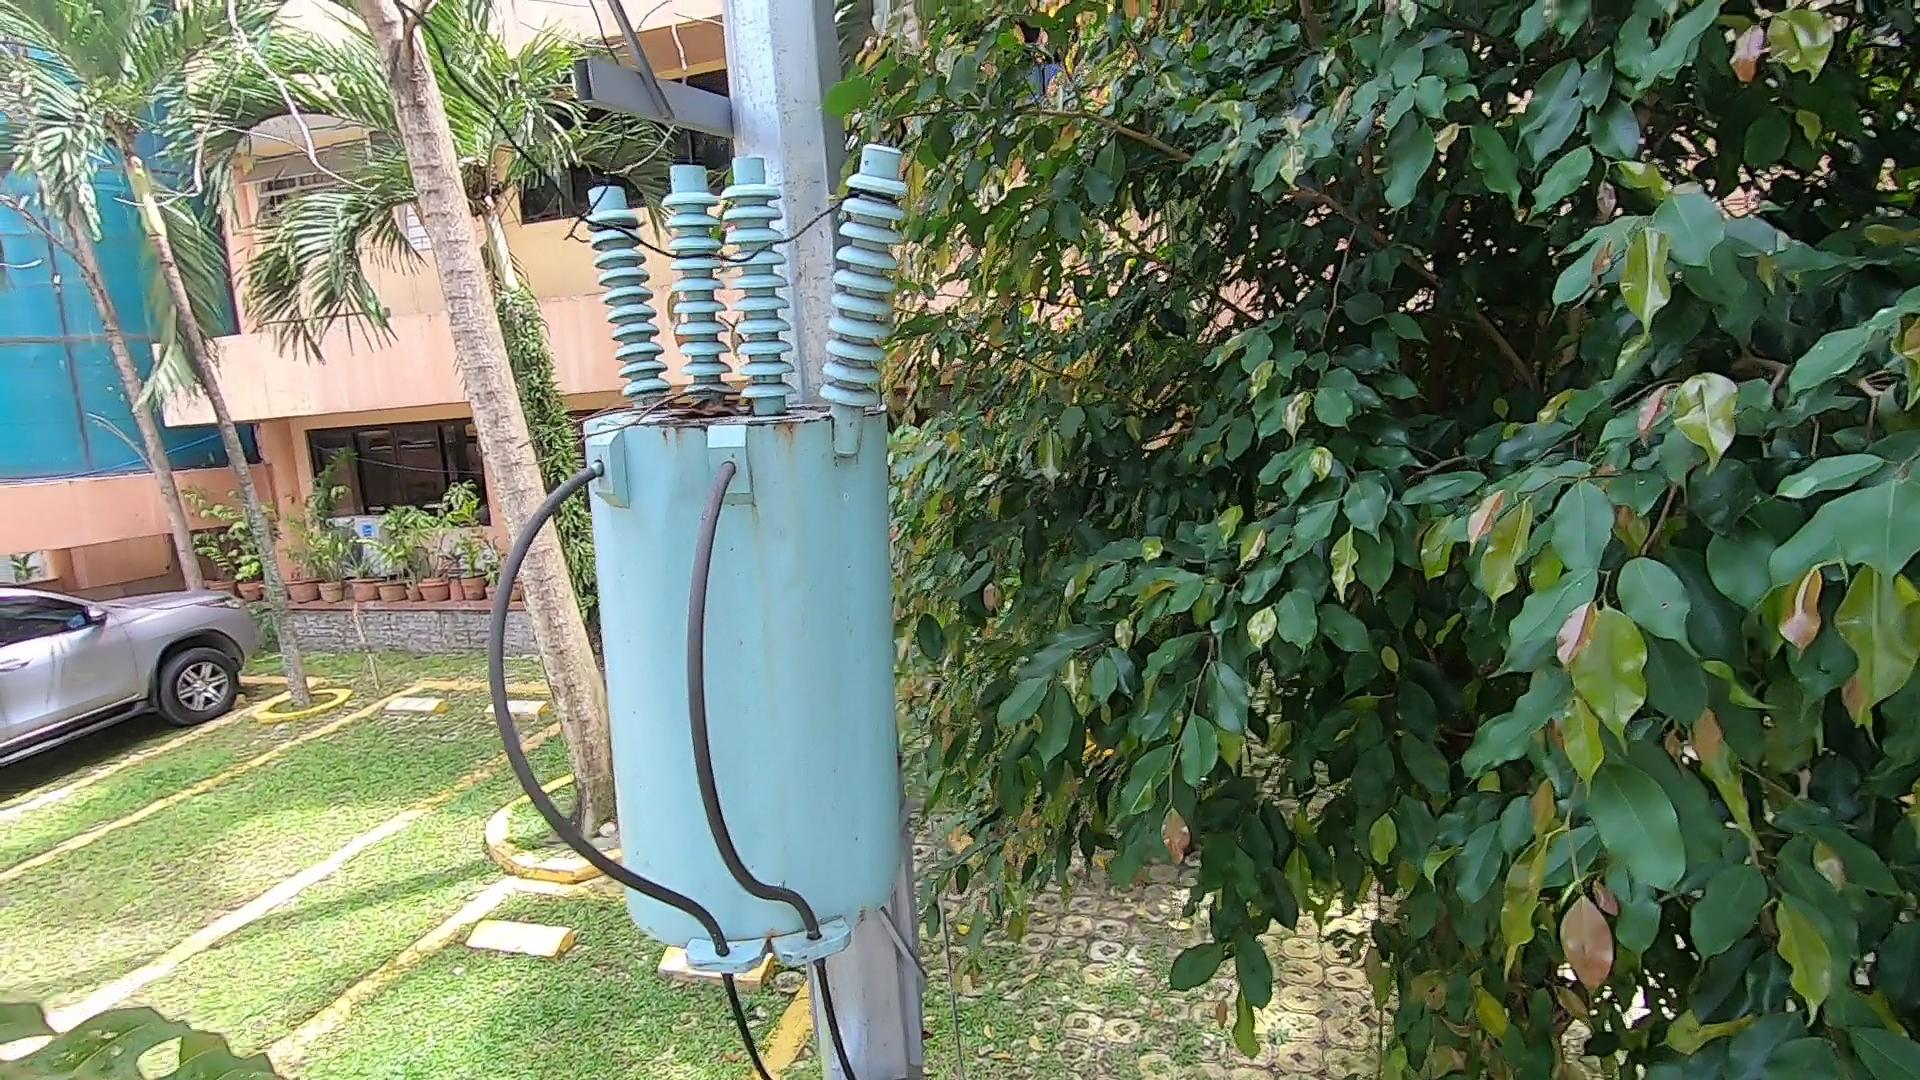branch with leaves: (800, 75, 920, 222)
leaf: (654, 400, 746, 421)
tree branch: (456, 377, 777, 448)
